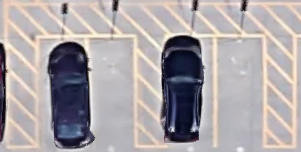Occupied: (162, 35, 216, 147), (36, 36, 87, 146)
Vacant: (215, 35, 265, 146), (87, 36, 136, 148)
